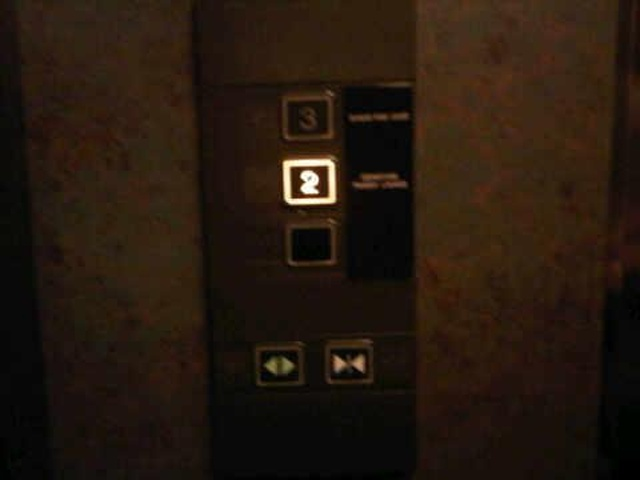2: (280, 154, 336, 207)
3: (279, 89, 335, 142)
close: (321, 338, 374, 386)
empty: (283, 218, 338, 270)
open: (251, 341, 306, 391)
